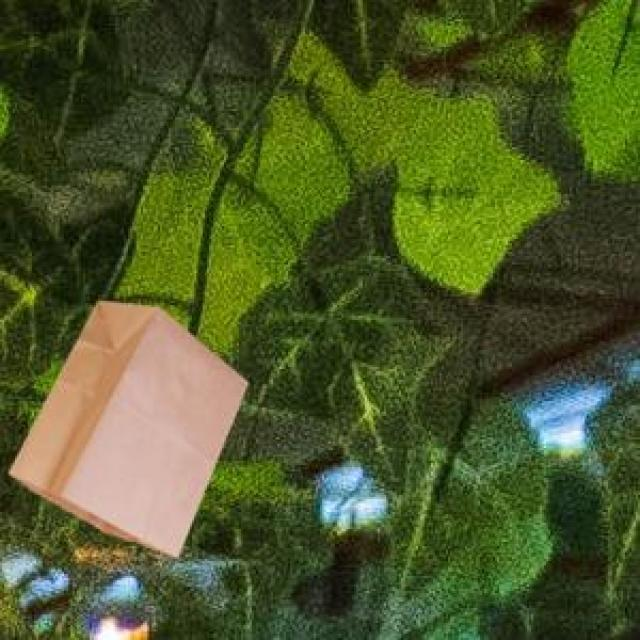paper: (4, 297, 243, 553)
